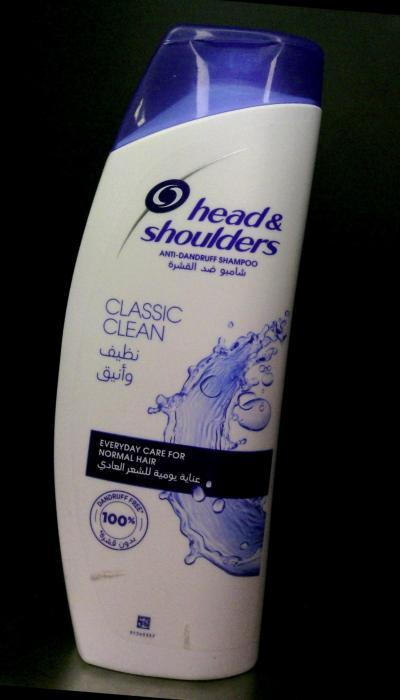tear_unacc: (172, 610, 213, 660), (74, 560, 134, 594)
